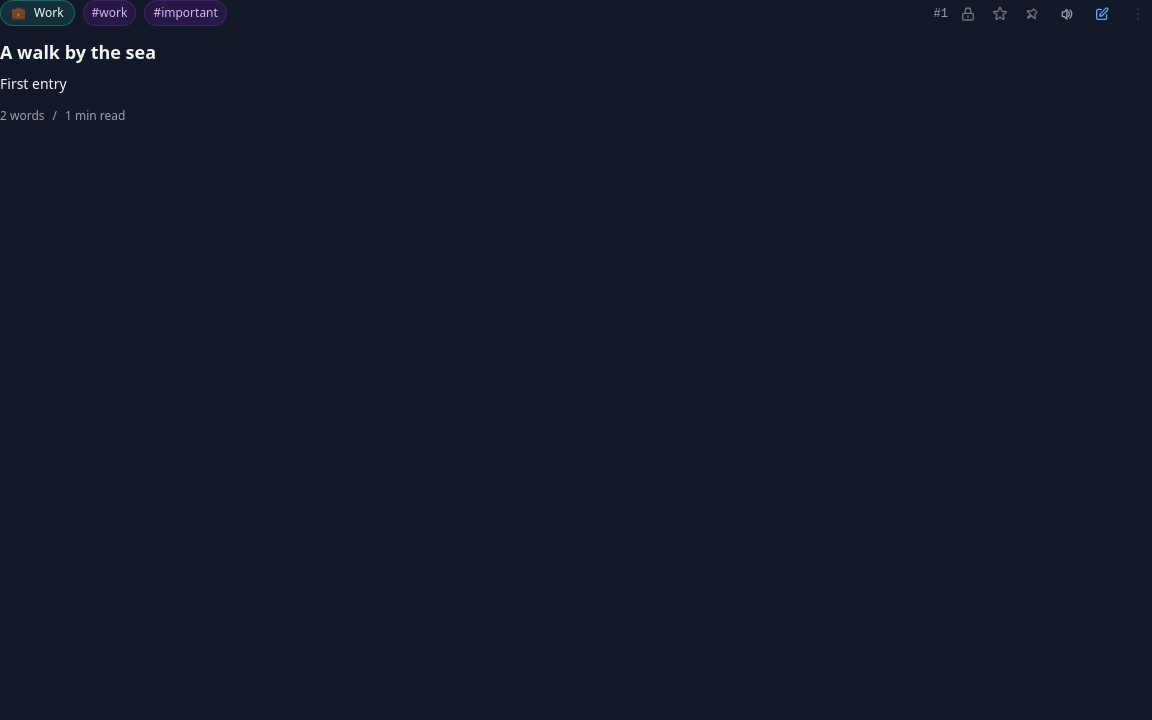
Test: EntryViewMode private share links › opens the entry’s share links from More actions, and gives focus back when closed
Click the button named "More actions". click: (1138, 14)
box: [1124,0,1151,28]
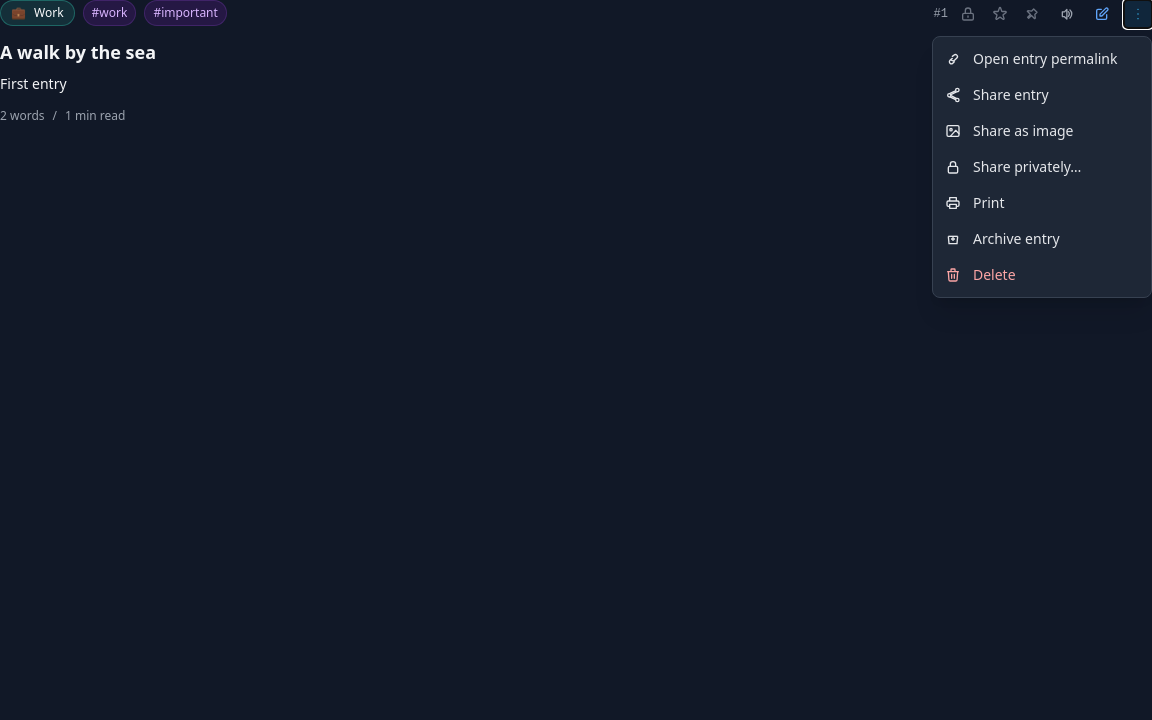
Click the menu item "Share privately…". click: (1042, 167)
box: [933,149,1151,185]
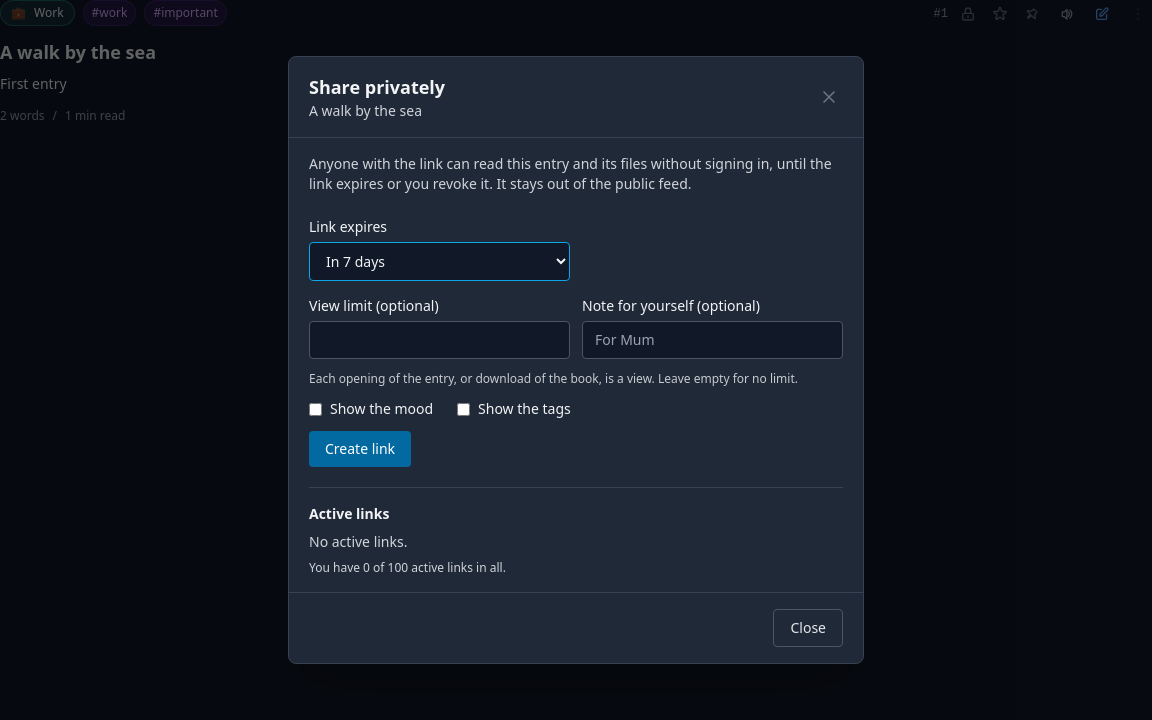
Check: the dialog "Share privately" shows "A walk by the sea", box [309,101,422,120]
Click the button named "Close". click: (829, 97)
box: [815,83,843,111]
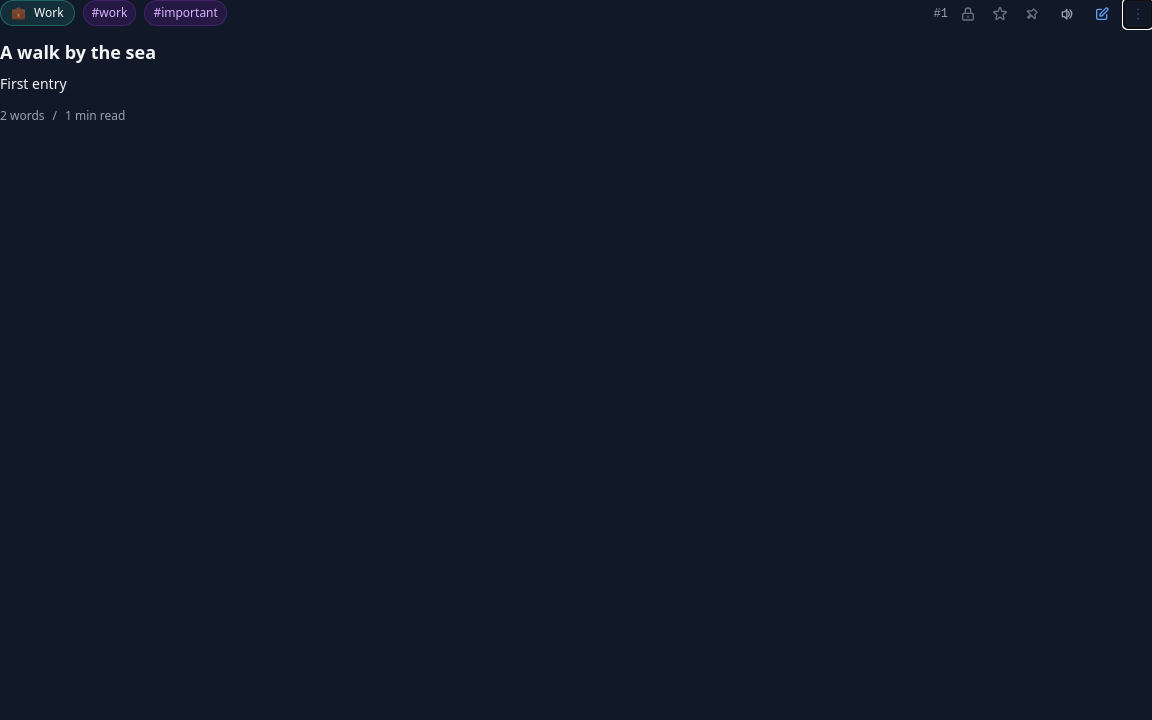
Check: the dialog is gone
